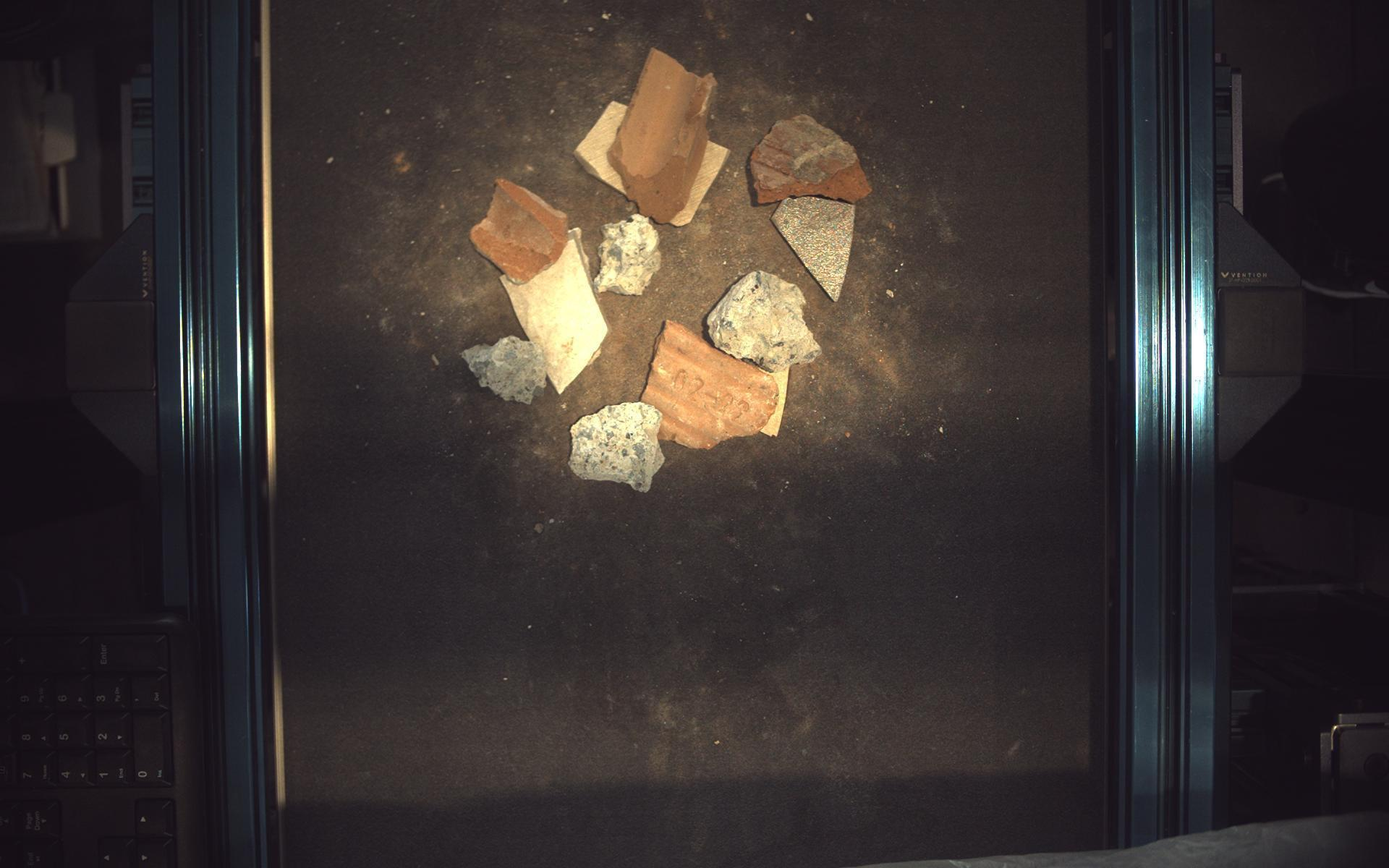brick: (609, 48, 718, 222), (642, 320, 779, 448), (751, 114, 873, 203), (470, 178, 569, 283)
concrete: (708, 270, 823, 373), (569, 402, 666, 493), (462, 336, 547, 404), (595, 213, 662, 295)
tile: (501, 236, 608, 393), (774, 196, 857, 301), (671, 140, 730, 226), (575, 100, 628, 192), (762, 369, 791, 437)
